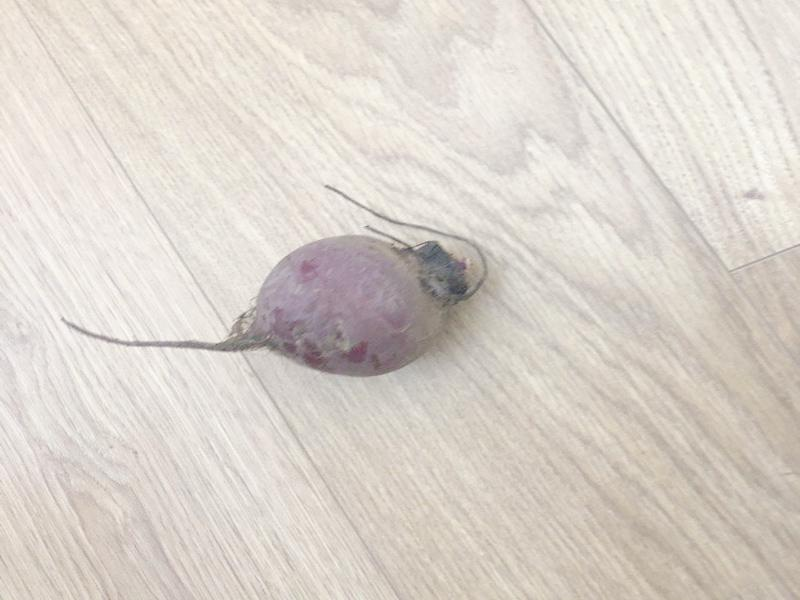Beet: (59, 185, 486, 378)
